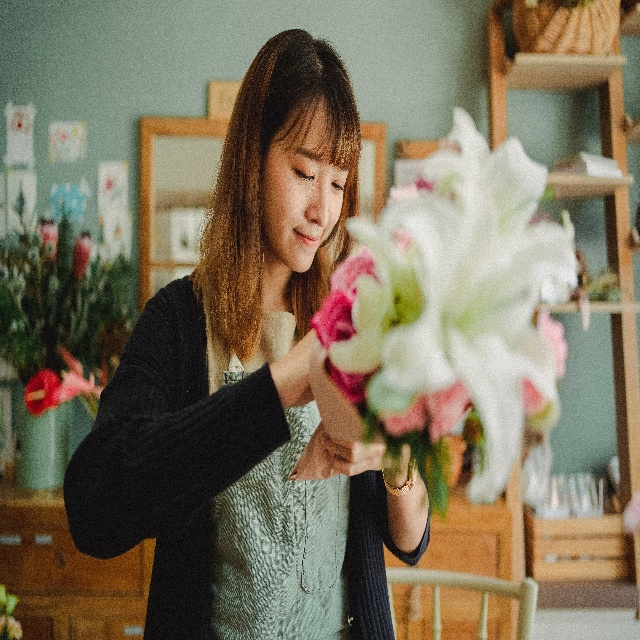Sin_guantes: (319, 428, 399, 480)
